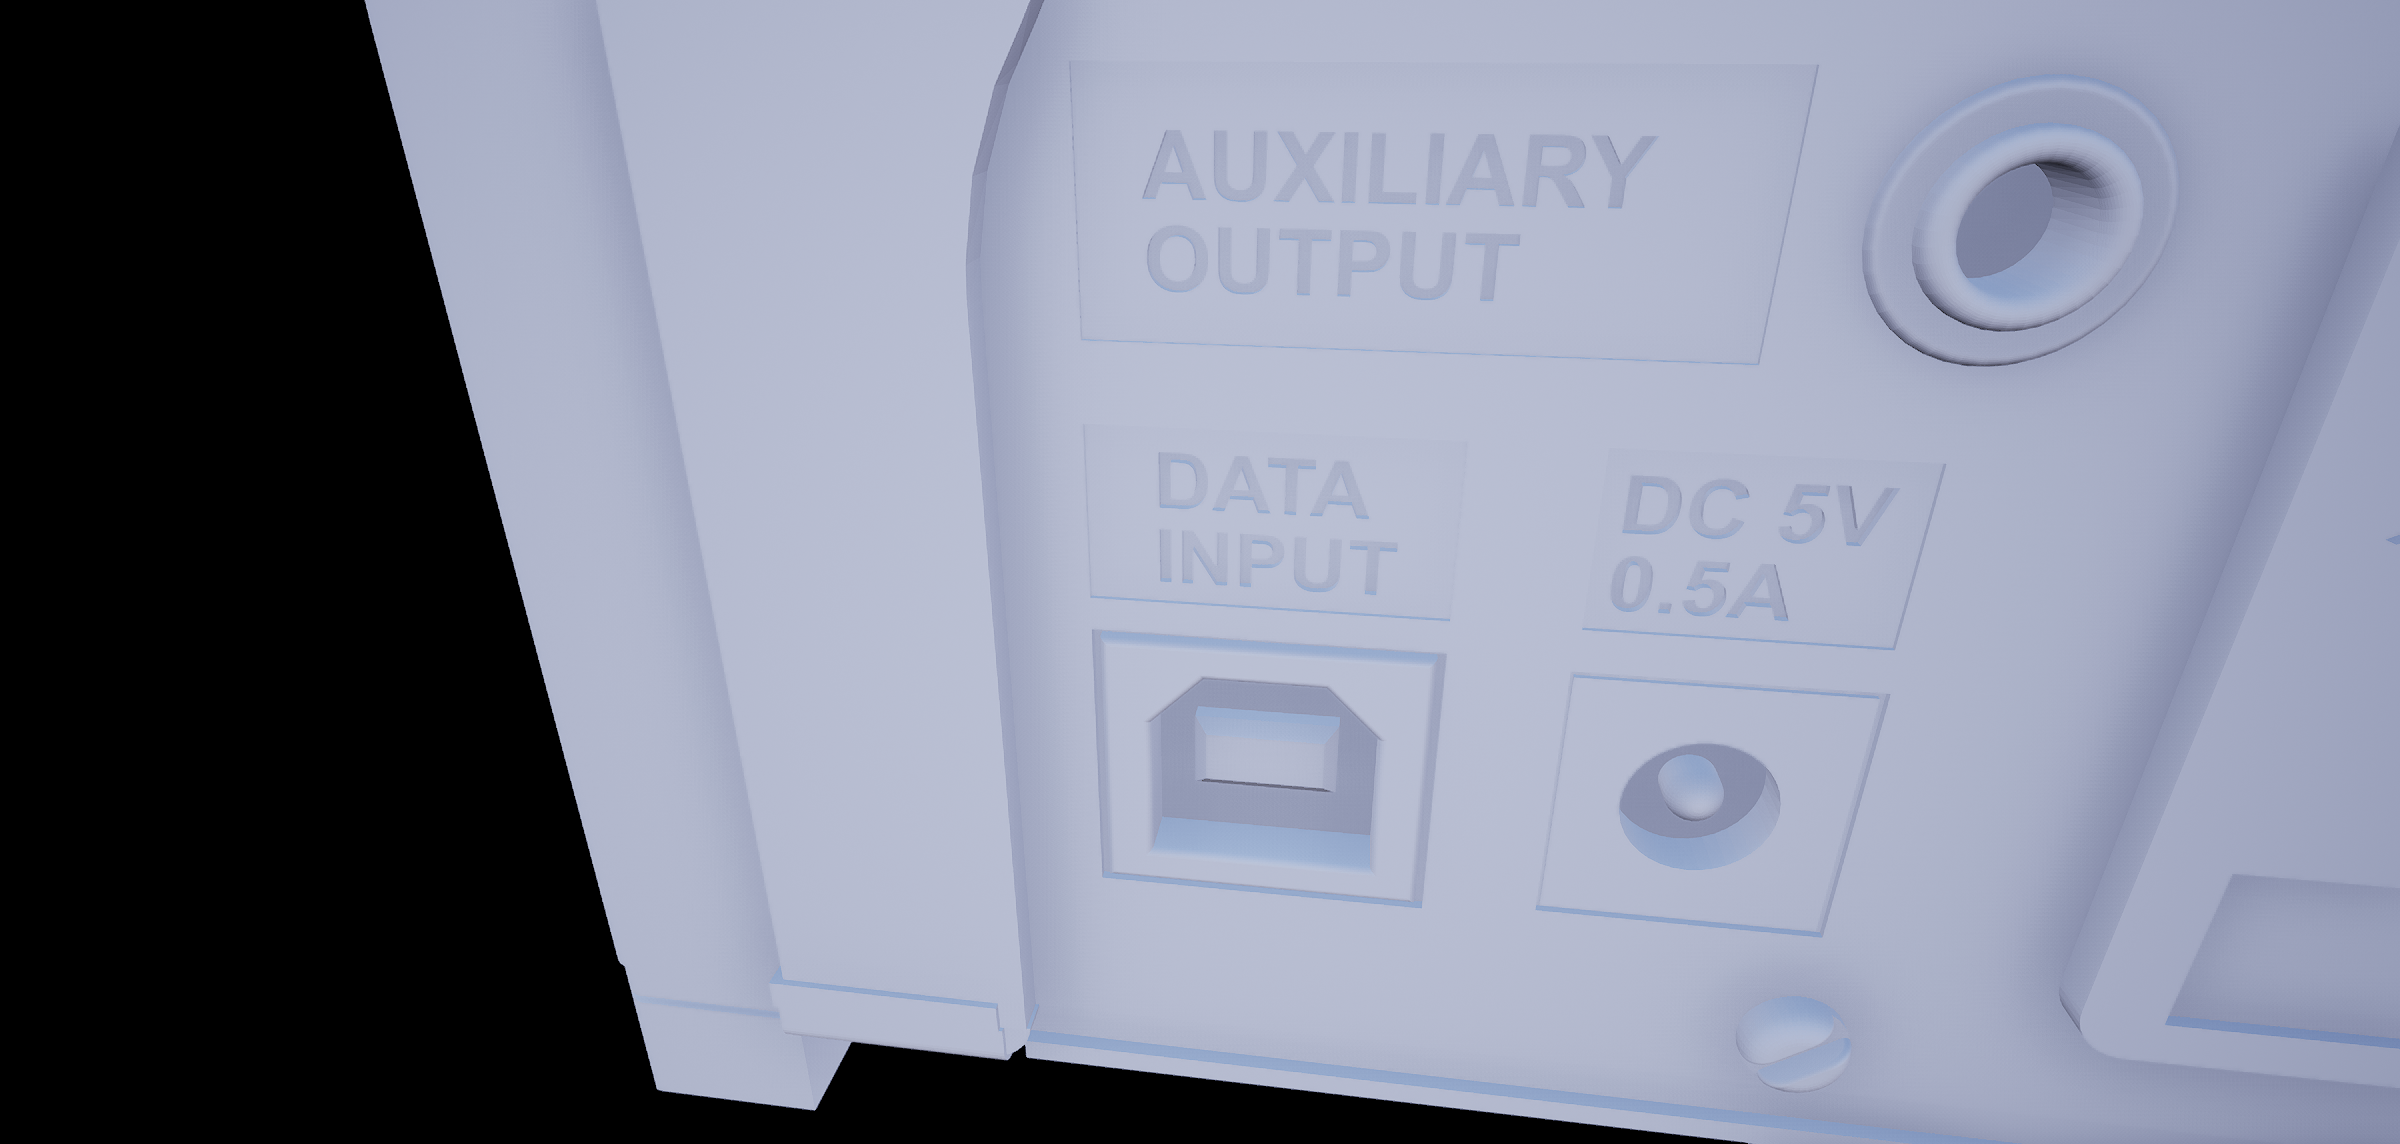aux: (1860, 47, 2190, 401)
dc: (1607, 726, 1811, 894)
usb: (1133, 659, 1393, 894)
